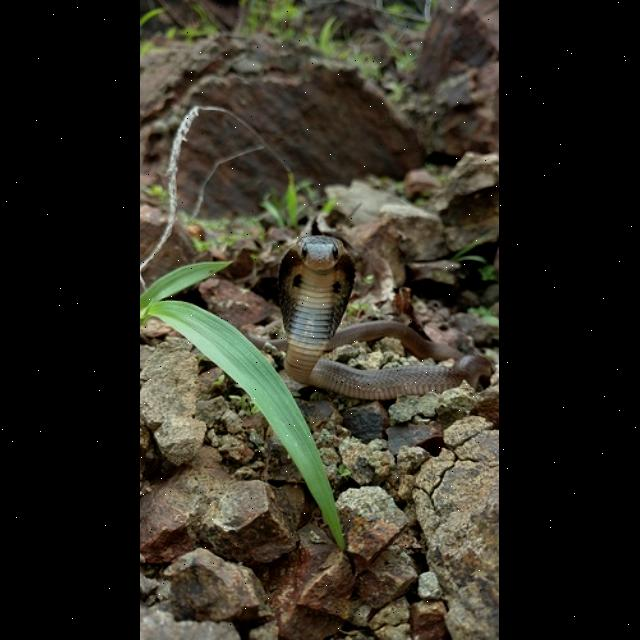snake: (256, 227, 499, 415)
